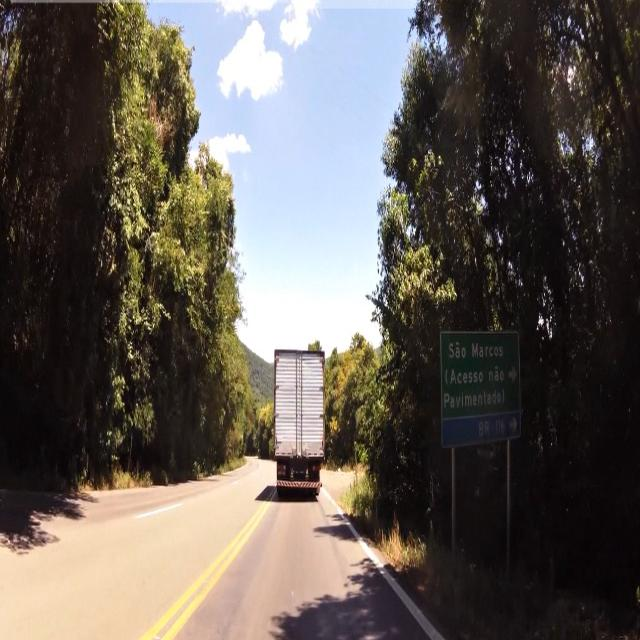I-4: (442, 330, 520, 410)
